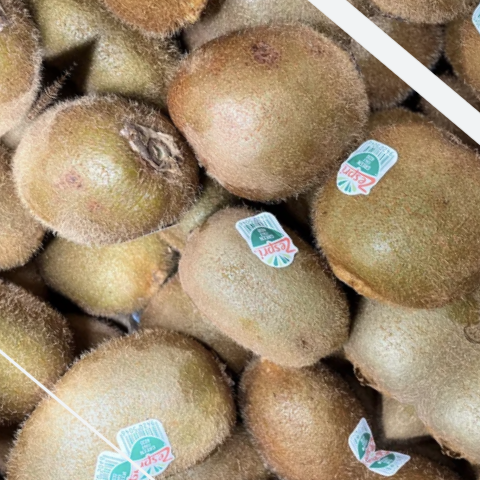kiwi: (124, 0, 415, 262), (0, 27, 242, 308), (256, 72, 480, 365), (127, 164, 386, 416), (43, 285, 280, 480)
